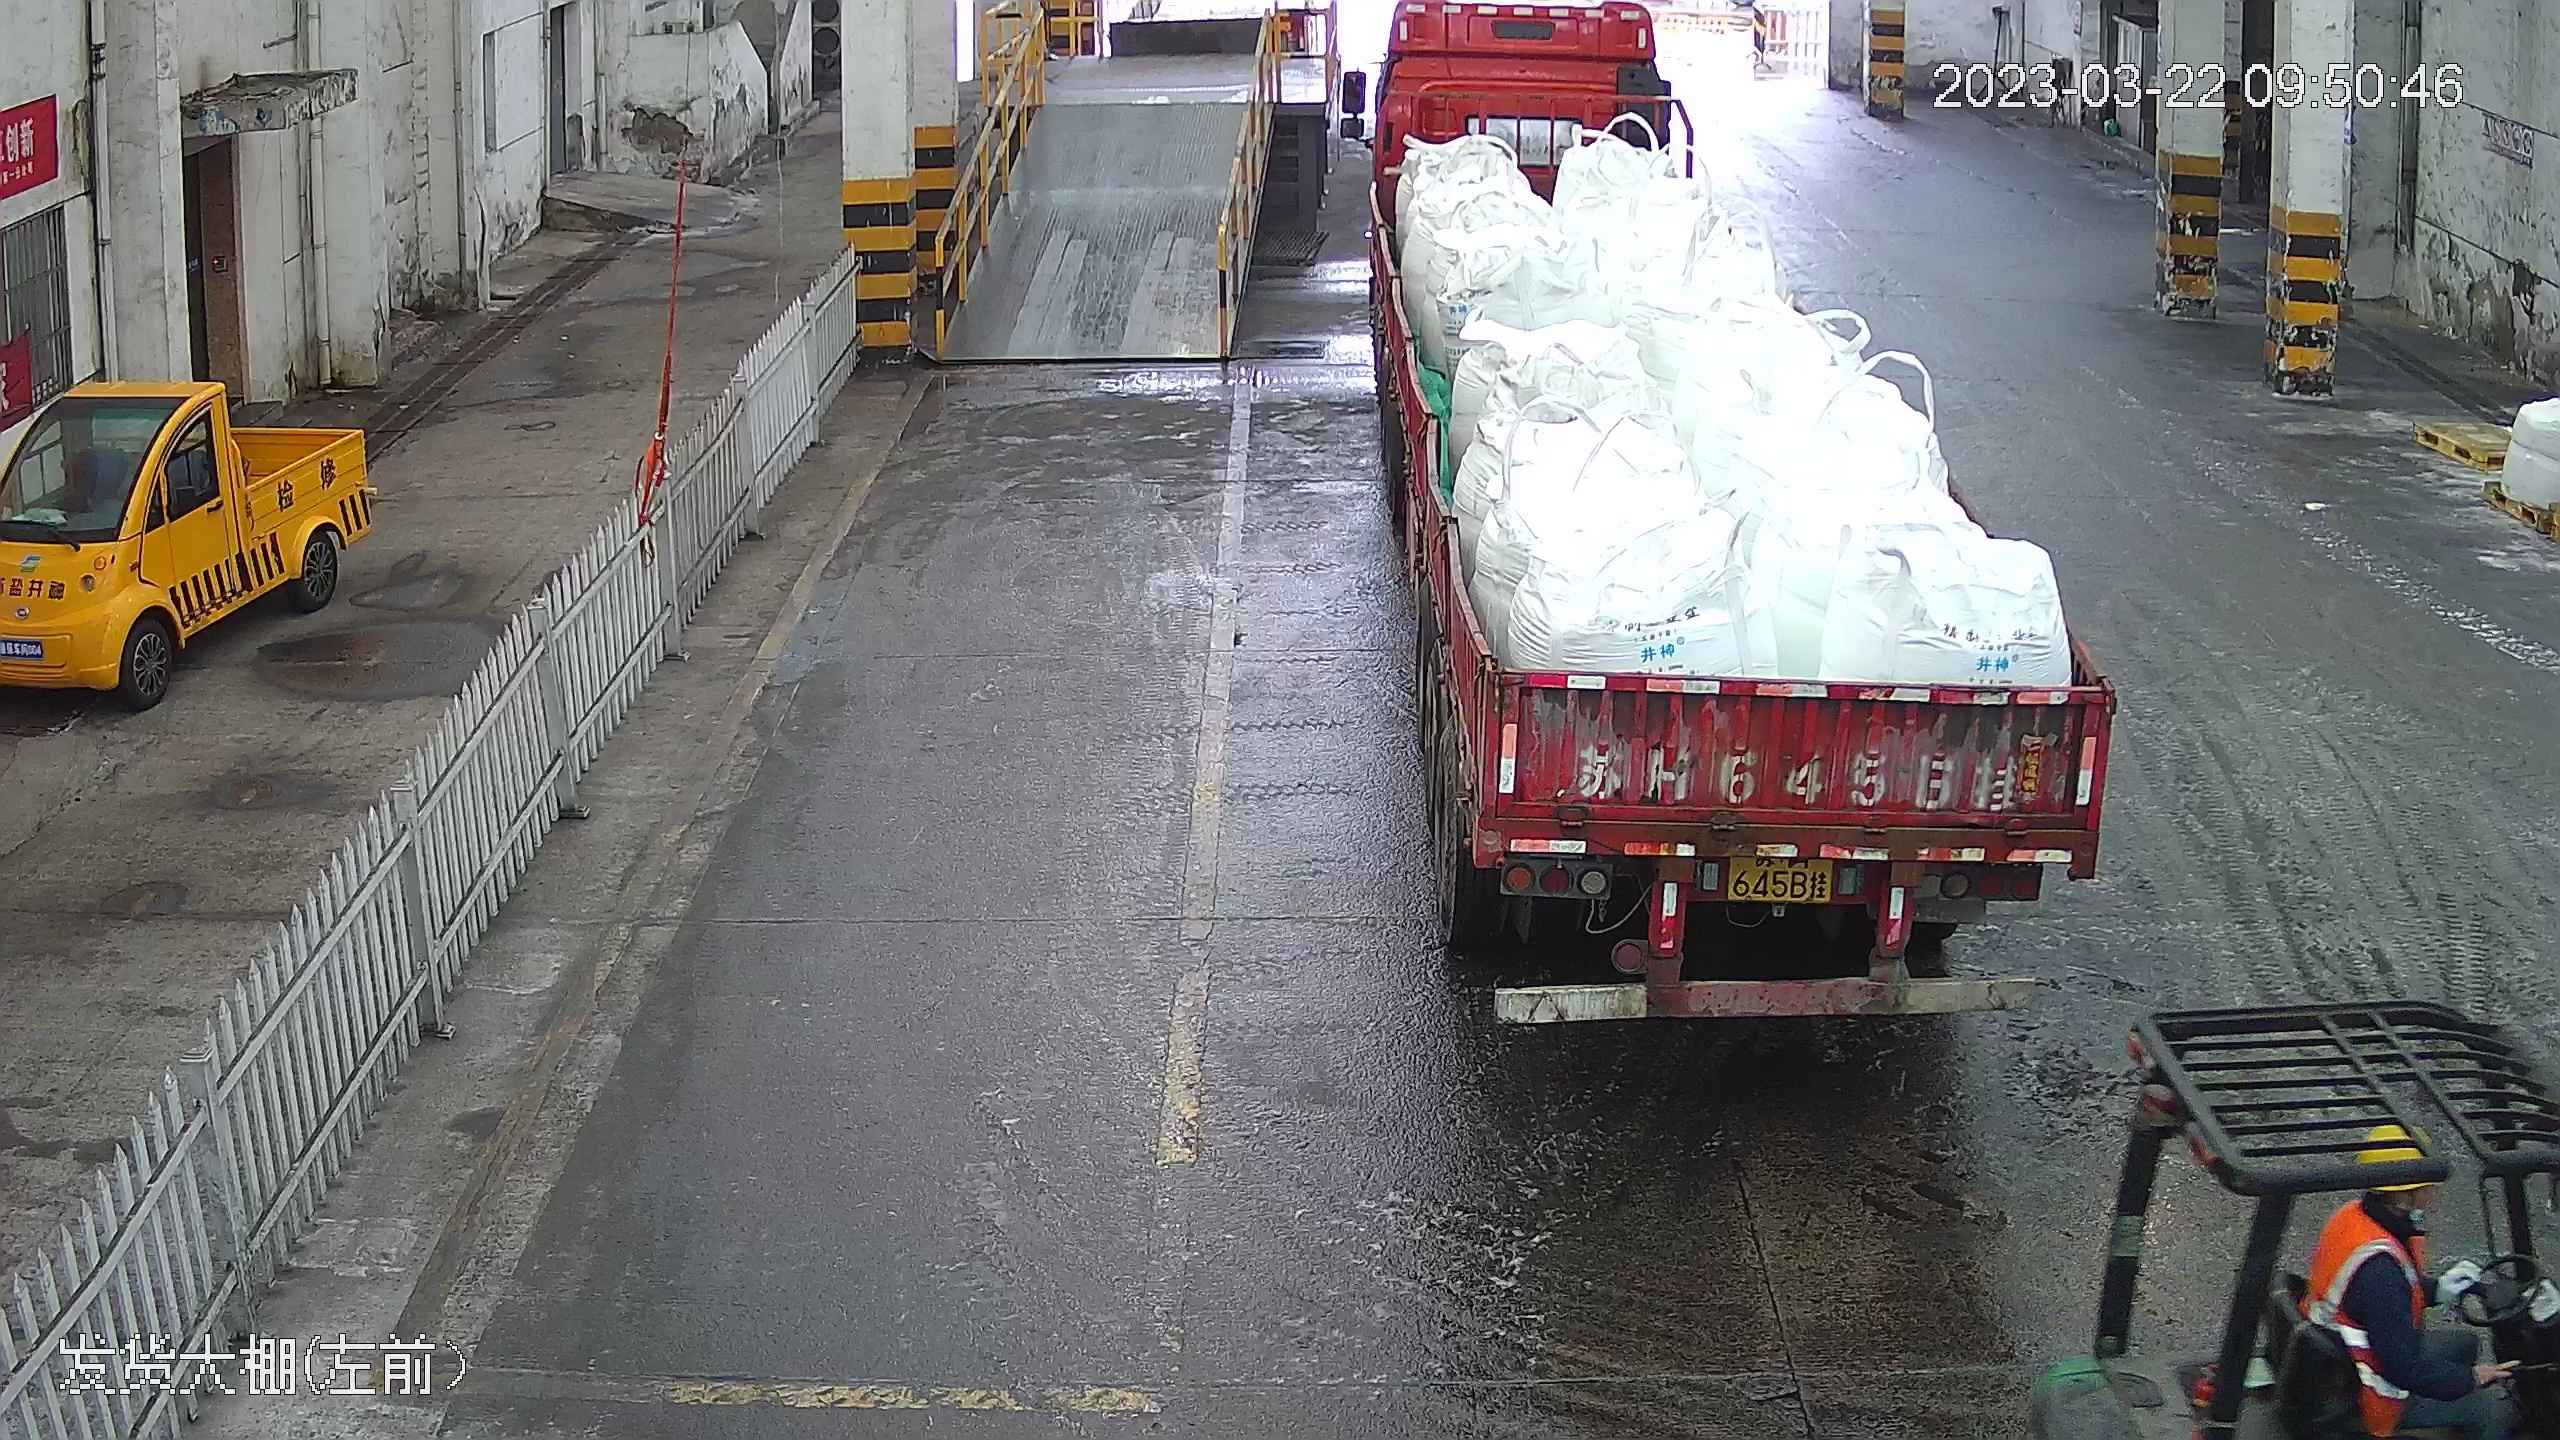head: (2308, 1117, 2451, 1300)
helmet: (2353, 1118, 2433, 1175)
people: (2301, 1113, 2543, 1438)
truck: (1341, 0, 2114, 1011)
